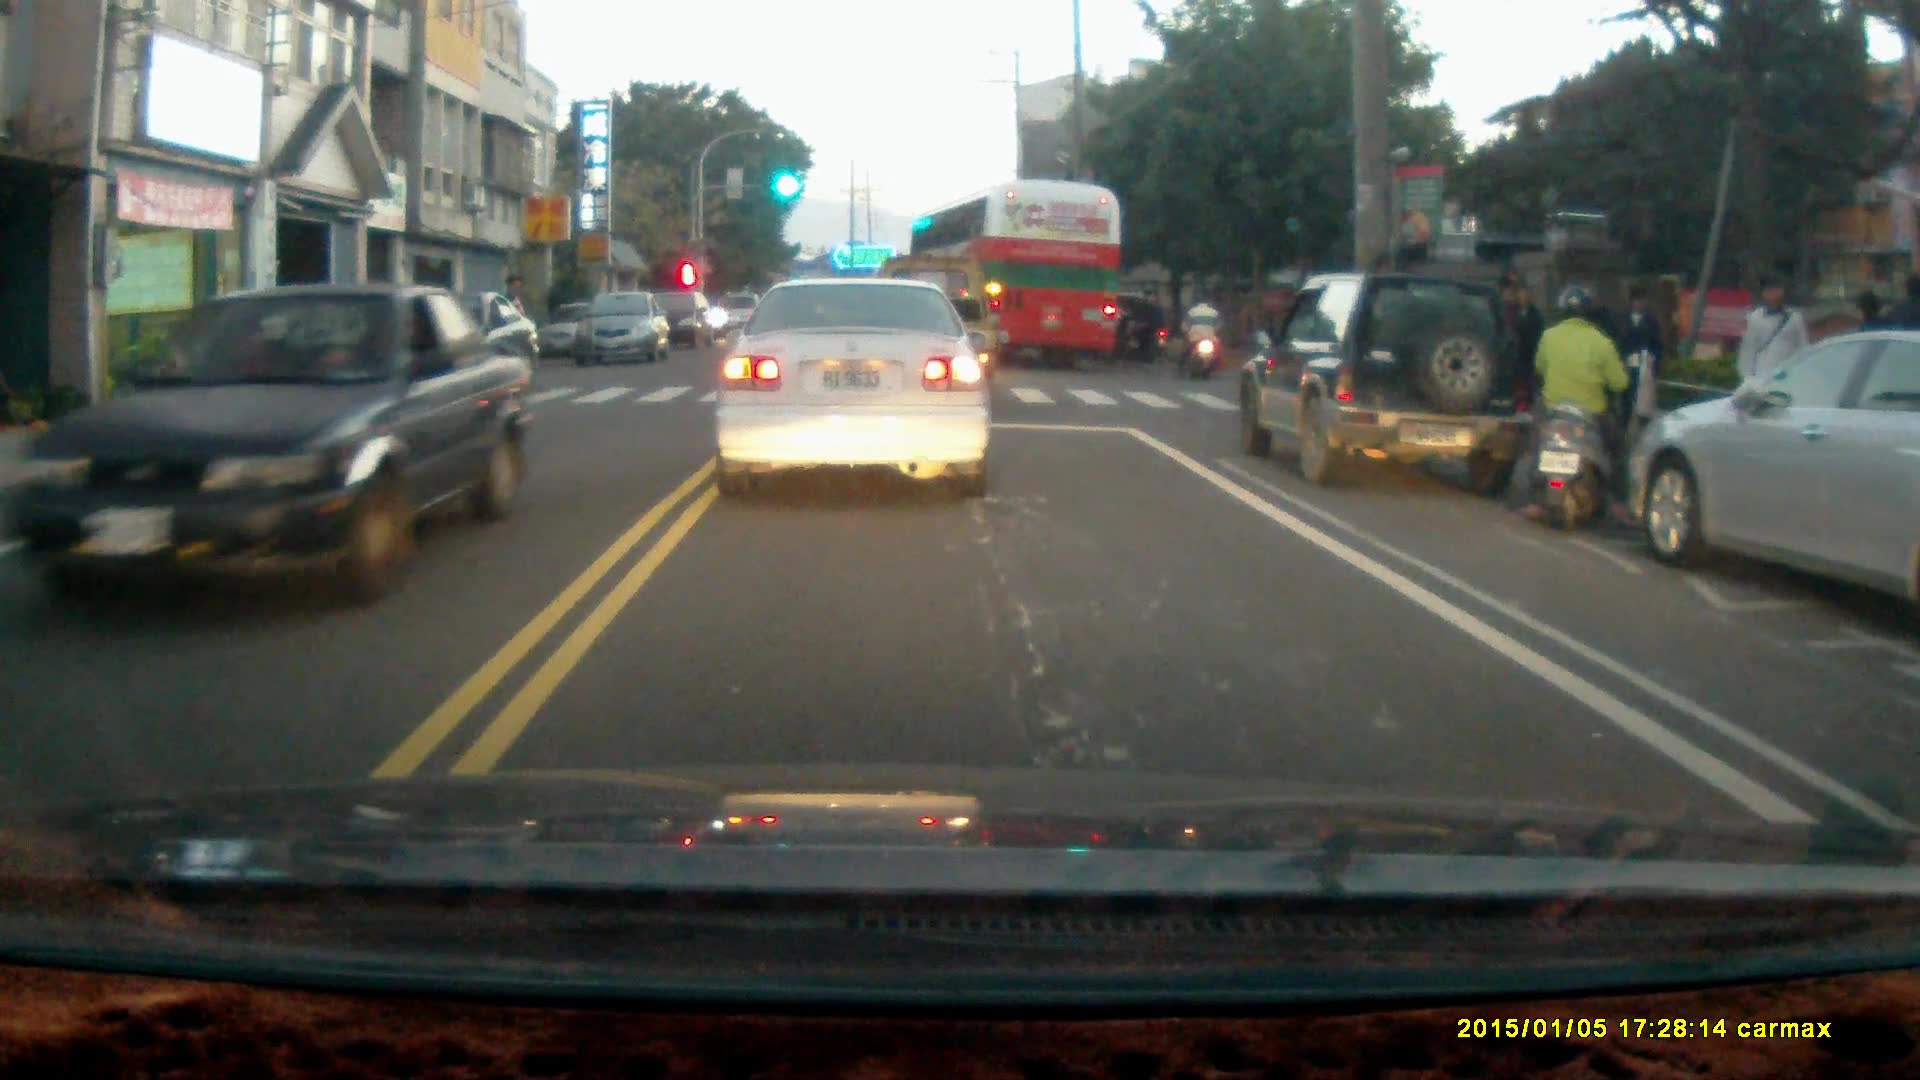pedestrian: (1735, 271, 1813, 444), (1606, 282, 1662, 451)
rider: (1521, 285, 1643, 530), (1107, 291, 1171, 364), (1179, 289, 1222, 378)
vehicle: (16, 281, 520, 612), (1631, 333, 1920, 639), (1233, 273, 1539, 493), (711, 272, 999, 503), (902, 179, 1132, 375), (577, 292, 673, 368), (635, 286, 721, 355)
